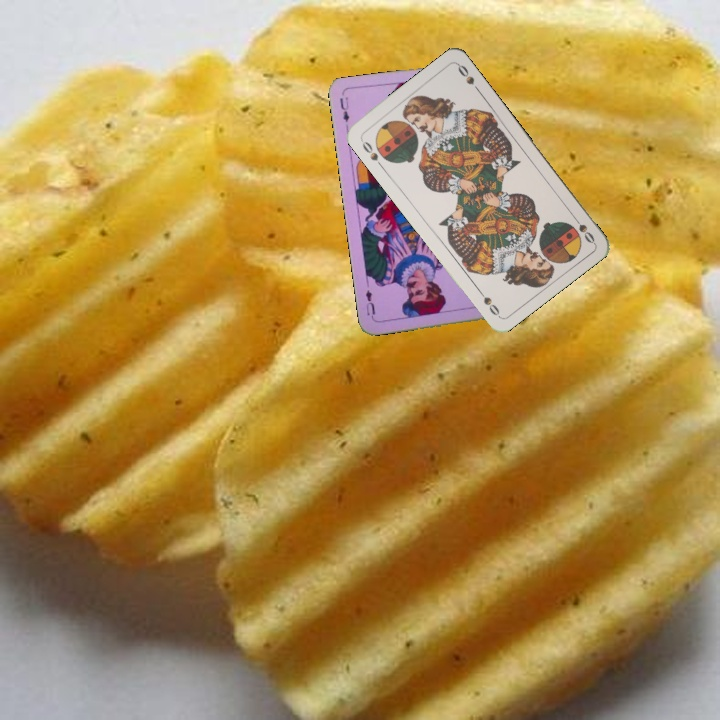EU: (336, 93, 352, 125)
SO: (568, 210, 597, 246), (356, 135, 385, 170)
